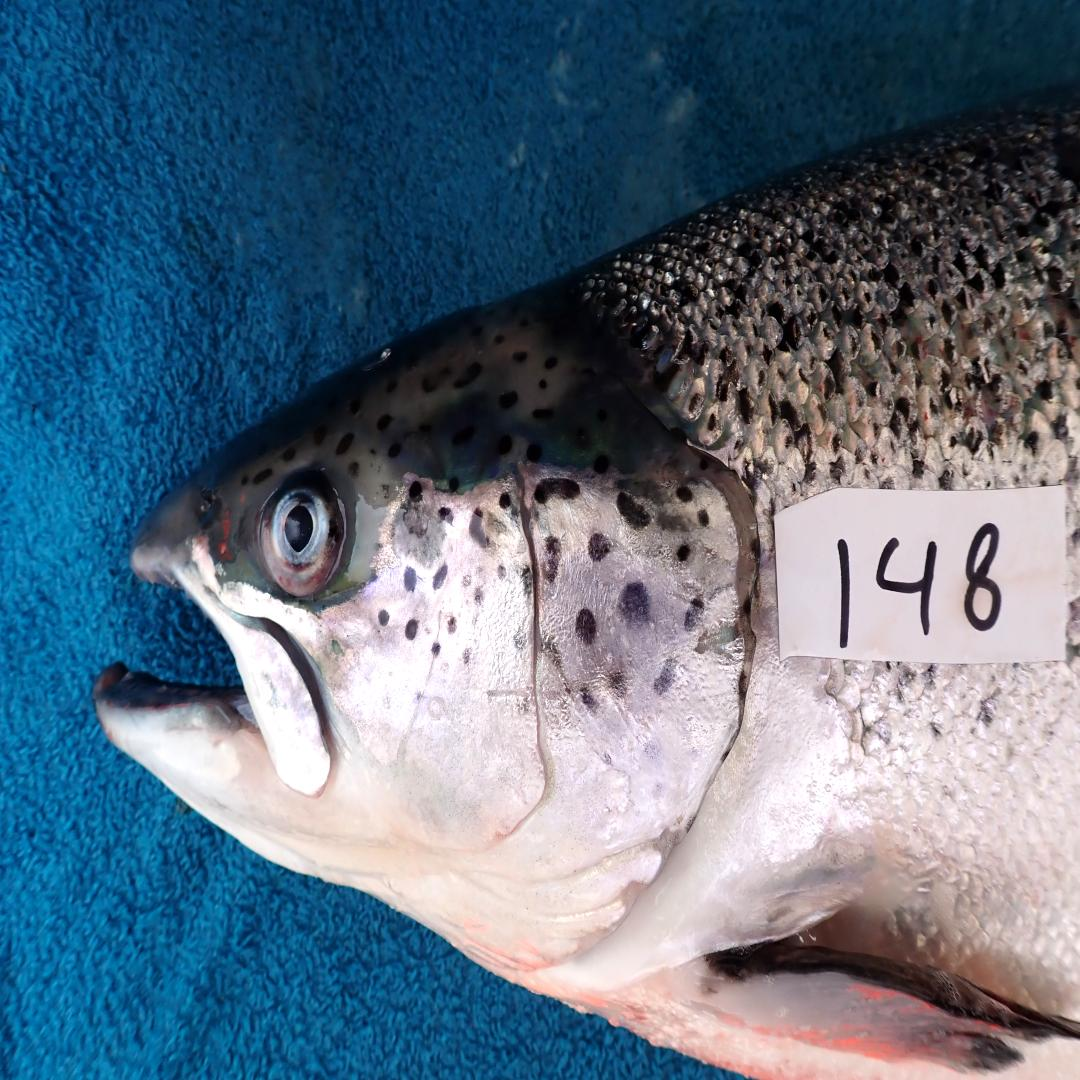roi: (332, 462, 759, 986)
